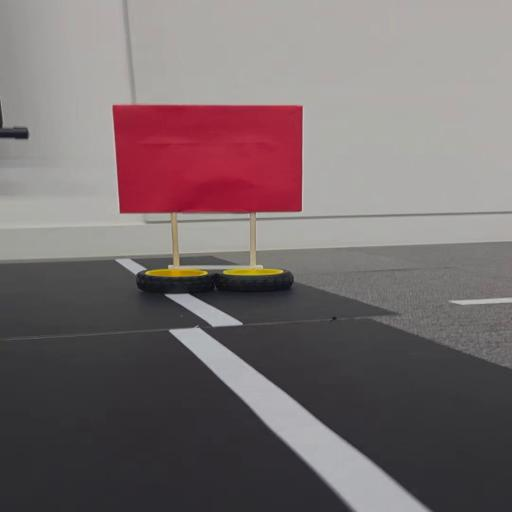Sign_A: (107, 101, 308, 307)
